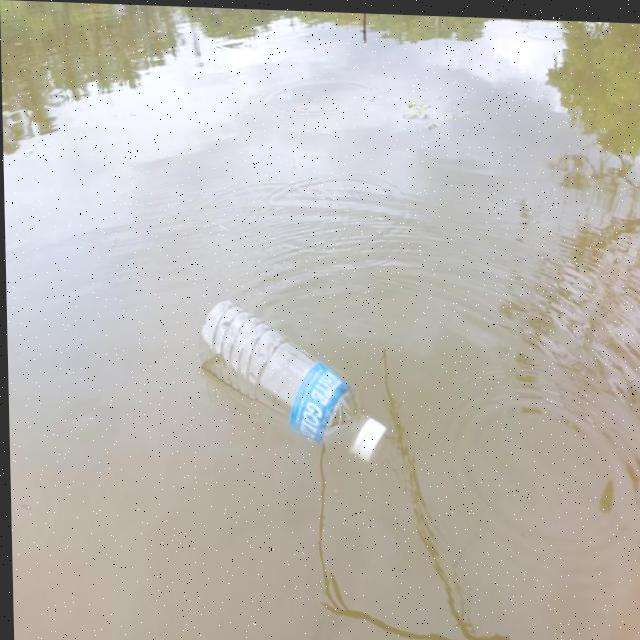waterbottle: (184, 288, 385, 457)
